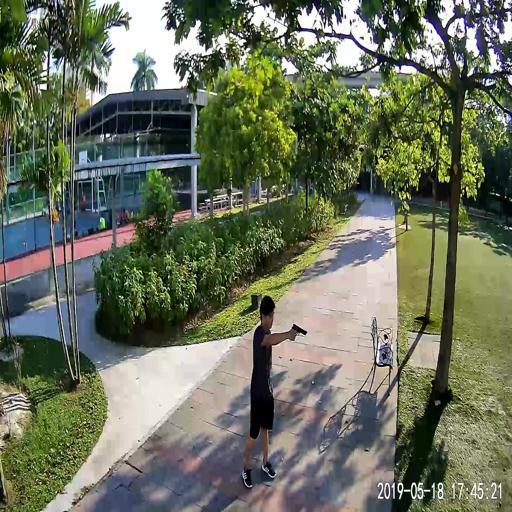Handgun: (289, 320, 306, 337)
